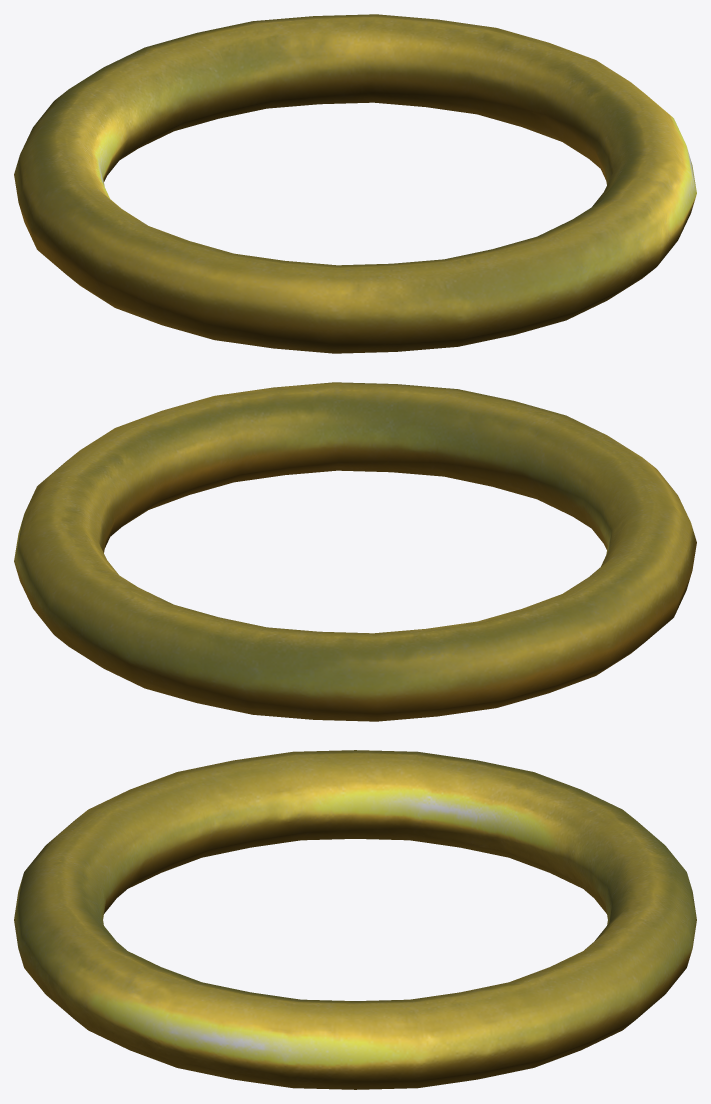
The model's file is Enemy_Ring.fbx.
3 renders of one model, top to bottom at view 1: azimuth 30°, elevation 25°; view 2: azimuth 150°, elevation 25°; view 3: azimuth 270°, elevation 25°, orthographic.
Parts seen in each view (by area): view 1: Torus001; view 2: Torus001; view 3: Torus001.
Boxes of the visible parts, box(x1,y1,x2,y2) form: Torus001: box(14, 14, 696, 353); Torus001: box(14, 382, 696, 721); Torus001: box(14, 750, 696, 1089).
Size of the model in its own units: 23 by 3 by 23.
Materials: 1 (1 with a texture image).
